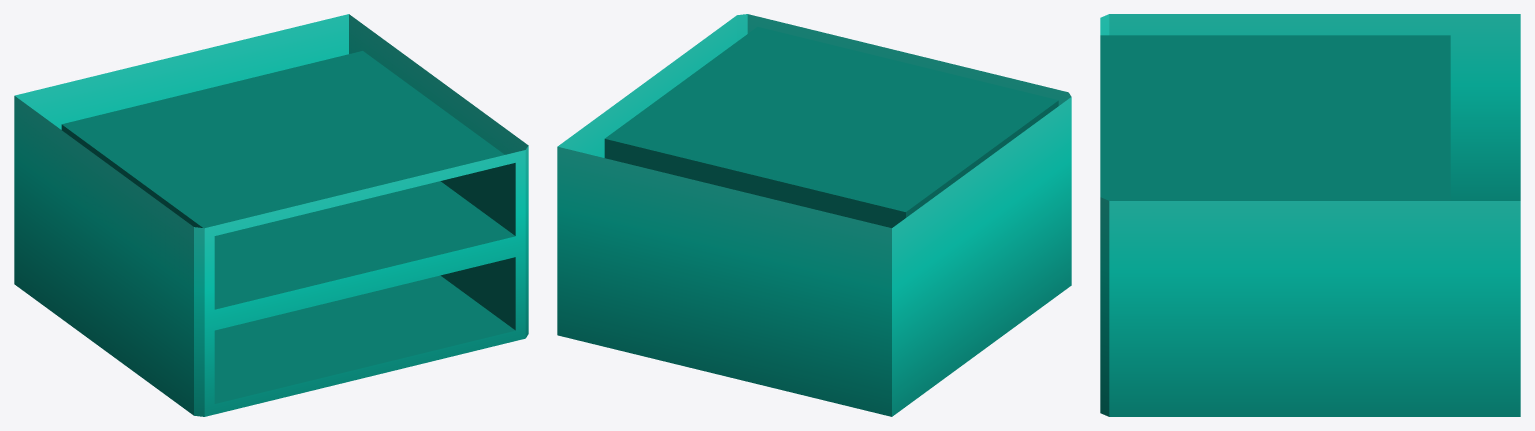
Rendered from Counter_01_v07_S_C05.fbx.
3 renders of one model, left to right at view 1: azimuth 30°, elevation 25°; view 2: azimuth 150°, elevation 25°; view 3: azimuth 270°, elevation 25°, orthographic. The views are drawn at different scales.
Visible parts, largest first — view 1: Counter_01_v07_S_C05; view 2: Counter_01_v07_S_C05; view 3: Counter_01_v07_S_C05.
Part boxes in pixels (x1,y1,x2,y2): Counter_01_v07_S_C05: (14,14,528,416); Counter_01_v07_S_C05: (557,14,1071,416); Counter_01_v07_S_C05: (1100,14,1520,416).
Size of the model in its own units: 100 by 53.91 by 94.97.
